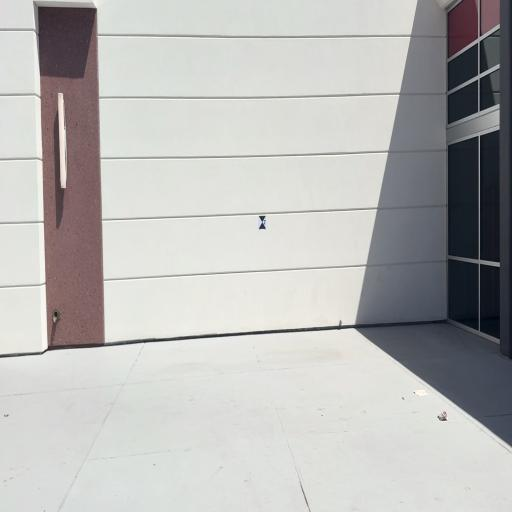target7: (258, 215, 266, 230)
